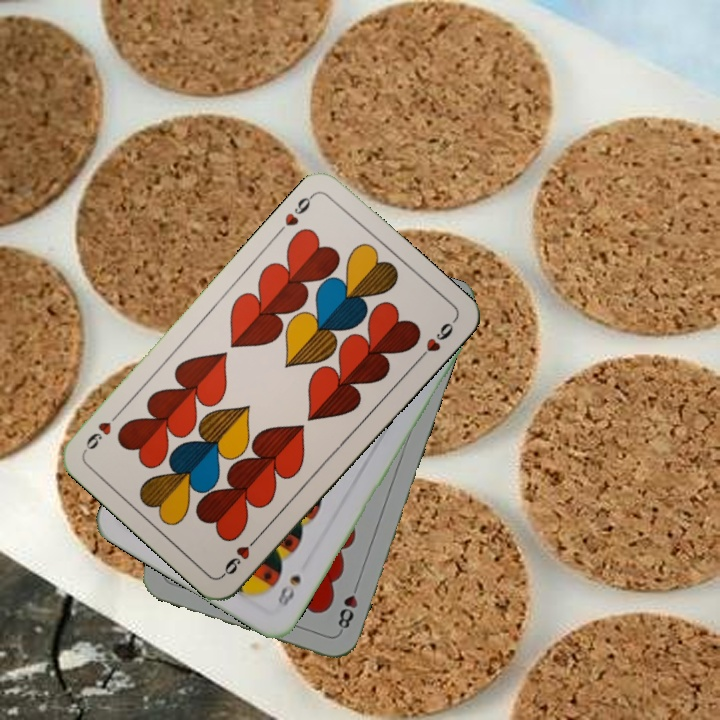H8: (333, 578, 362, 635)
H9: (218, 531, 263, 579), (280, 189, 317, 229)
S8: (273, 570, 304, 611)
